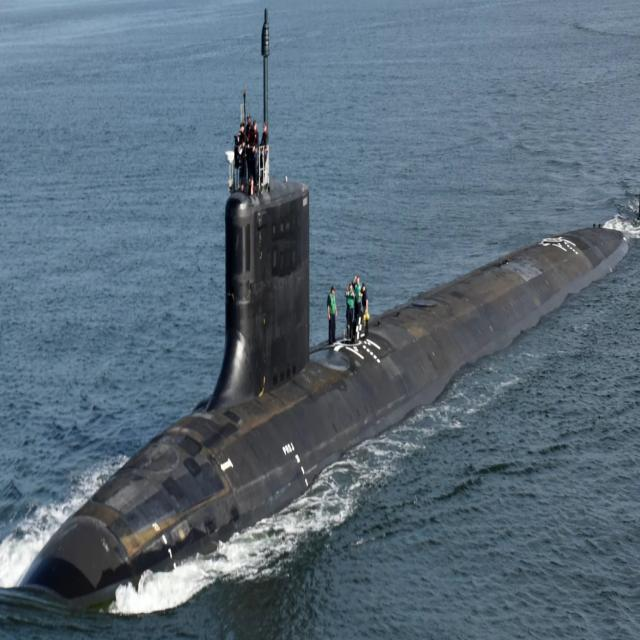submarine: (2, 1, 640, 627)
